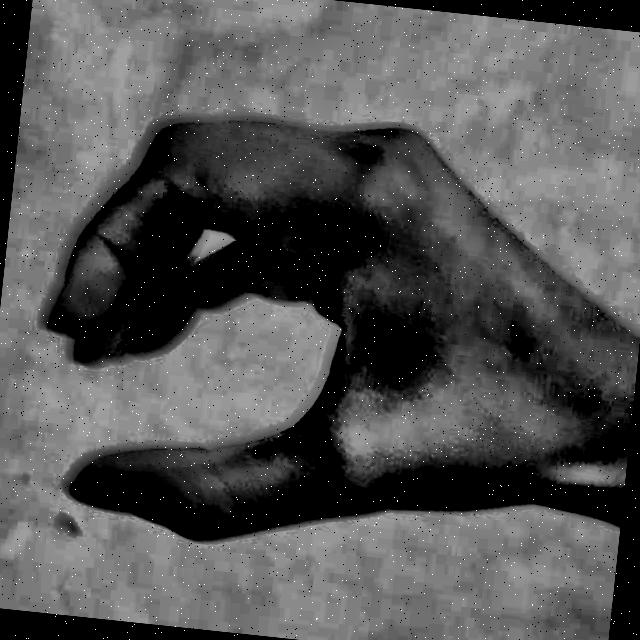Ka: (14, 57, 640, 596)
